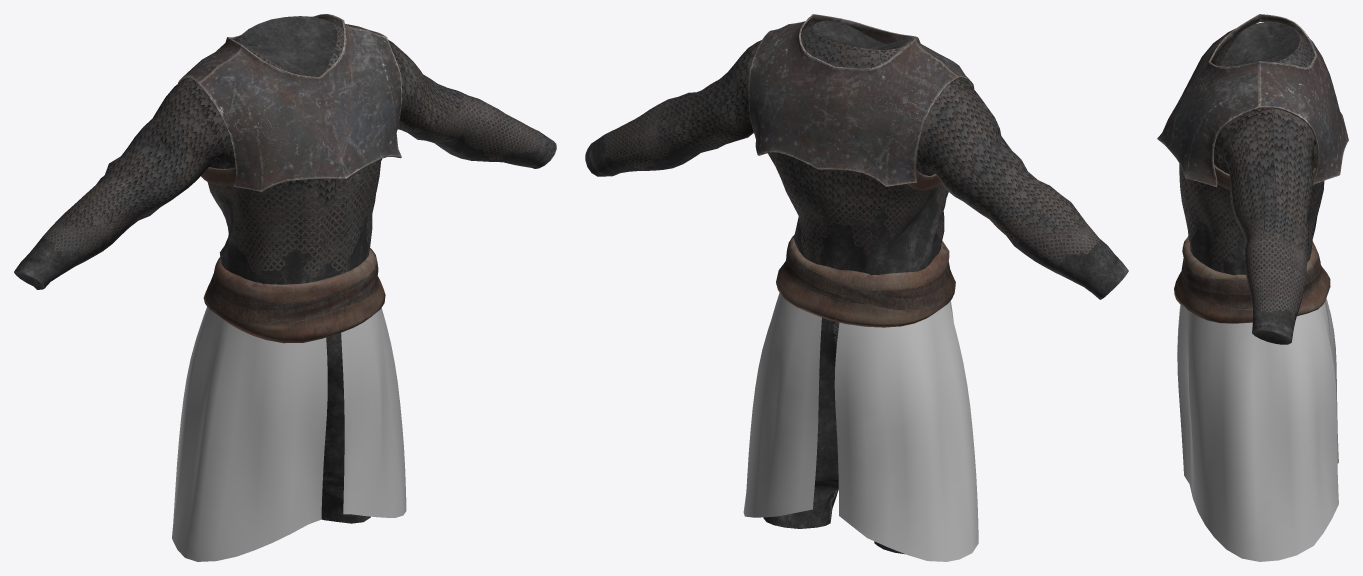
The model's file is sk_dg_uruk_chest_med_b.fbx.
3 renders of one model, left to right at view 1: azimuth 30°, elevation 25°; view 2: azimuth 150°, elevation 25°; view 3: azimuth 270°, elevation 25°, orthographic. The views are drawn at different scales.
Parts seen in each view (by area): view 1: sk_dg_uruk_chest_med_b.1, sk_dg_uruk_chest_med_b.skirt, sk_dg_uruk_chest_med_b.2, sk_dg_uruk_chest_med_b.0; view 2: sk_dg_uruk_chest_med_b.1, sk_dg_uruk_chest_med_b.skirt, sk_dg_uruk_chest_med_b.2, sk_dg_uruk_chest_med_b.0; view 3: sk_dg_uruk_chest_med_b.skirt, sk_dg_uruk_chest_med_b.1, sk_dg_uruk_chest_med_b.2, sk_dg_uruk_chest_med_b.3.
Boxes of the visible parts, bbox=[...] form: sk_dg_uruk_chest_med_b.1: bbox=[14, 16, 556, 343]; sk_dg_uruk_chest_med_b.skirt: bbox=[172, 306, 406, 561]; sk_dg_uruk_chest_med_b.2: bbox=[178, 14, 402, 191]; sk_dg_uruk_chest_med_b.0: bbox=[321, 333, 370, 523]; sk_dg_uruk_chest_med_b.1: bbox=[585, 20, 1128, 327]; sk_dg_uruk_chest_med_b.skirt: bbox=[743, 292, 978, 561]; sk_dg_uruk_chest_med_b.2: bbox=[748, 14, 974, 186]; sk_dg_uruk_chest_med_b.0: bbox=[763, 317, 904, 554]; sk_dg_uruk_chest_med_b.skirt: bbox=[1177, 298, 1338, 561]; sk_dg_uruk_chest_med_b.1: bbox=[1174, 21, 1330, 344]; sk_dg_uruk_chest_med_b.2: bbox=[1157, 14, 1348, 187]; sk_dg_uruk_chest_med_b.3: bbox=[1214, 164, 1315, 190].
Bounding box in the file's own units: 1.35 × 0.4413 × 1.2.
